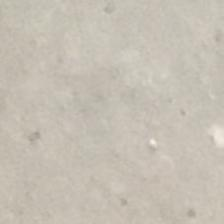Non_Crack: (31, 8, 224, 223)
